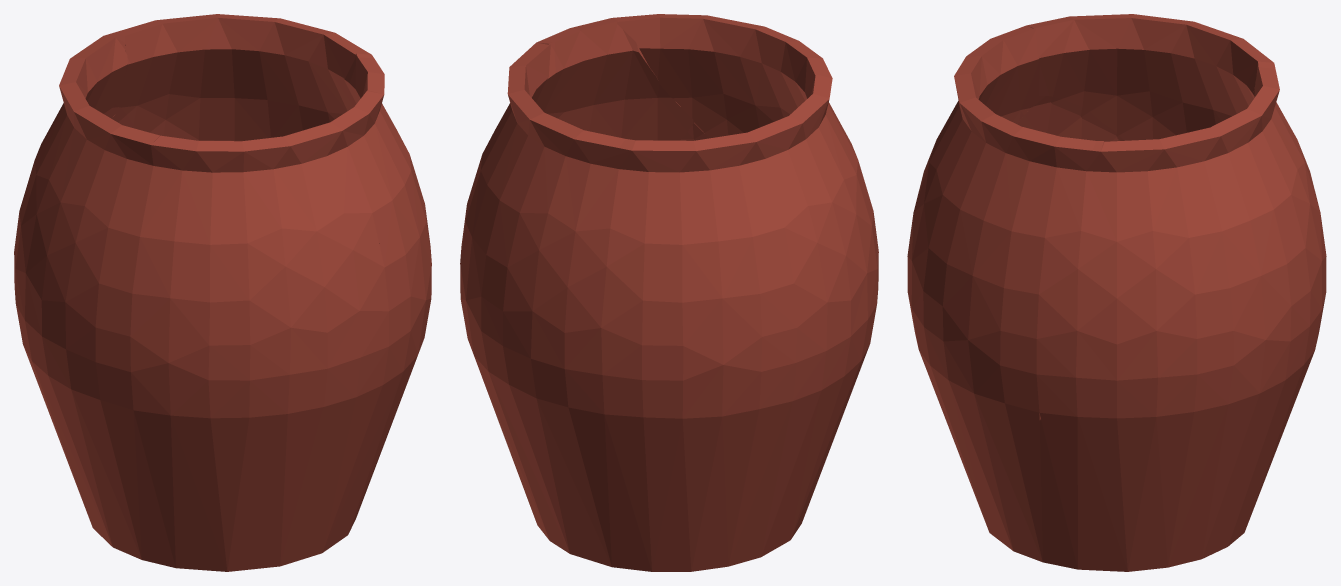
File: Pottery 1_1b.fbx
3 views of the same model, side by side, from view 1: azimuth 30°, elevation 25°; view 2: azimuth 150°, elevation 25°; view 3: azimuth 270°, elevation 25° (orthographic).
Visible parts, largest first — view 1: Pottery 1_1b.010, Pottery 1_1b.011, Pottery 1_1b.005, Pottery 1_1b.008, Pottery 1_1b.006, Pottery 1_1b, Pottery 1_1b.009, Pottery 1_1b.007; view 2: Pottery 1_1b, Pottery 1_1b.006, Pottery 1_1b.012, Pottery 1_1b.005, Pottery 1_1b.010, Pottery 1_1b.007, Pottery 1_1b.011; view 3: Pottery 1_1b.007, Pottery 1_1b.005, Pottery 1_1b.009, Pottery 1_1b, Pottery 1_1b.006, Pottery 1_1b.010, Pottery 1_1b.012, Pottery 1_1b.011.
Boxes of the visible parts, x1,y1,x2,y2 form: Pottery 1_1b.010: (121,91,384,361); Pottery 1_1b.011: (30,216,249,474); Pottery 1_1b.005: (114,14,371,141); Pottery 1_1b.008: (122,360,357,548); Pottery 1_1b.006: (15,32,159,268); Pottery 1_1b: (14,244,373,571); Pottery 1_1b.009: (271,244,417,484); Pottery 1_1b.007: (344,53,431,354); Pottery 1_1b: (464,290,839,571); Pottery 1_1b.006: (596,74,856,338); Pottery 1_1b.012: (463,232,740,480); Pottery 1_1b.005: (460,42,625,314); Pottery 1_1b.010: (612,14,862,174); Pottery 1_1b.007: (536,18,693,140); Pottery 1_1b.011: (831,159,878,425); Pottery 1_1b.007: (934,127,1134,424); Pottery 1_1b.005: (1101,67,1314,397); Pottery 1_1b.009: (907,225,1221,515); Pottery 1_1b: (971,384,1280,571); Pottery 1_1b.006: (1026,14,1303,154); Pottery 1_1b.010: (908,25,1045,248); Pottery 1_1b.012: (1231,152,1326,444); Pottery 1_1b.011: (1018,96,1119,141).
Size of the model in its own units: 72.32 by 83.1 by 72.32.
